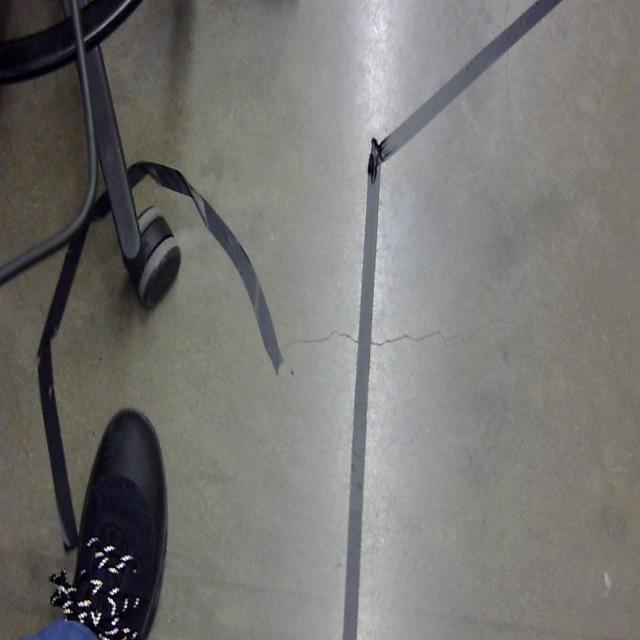tape: (332, 0, 606, 640), (34, 140, 324, 559)
